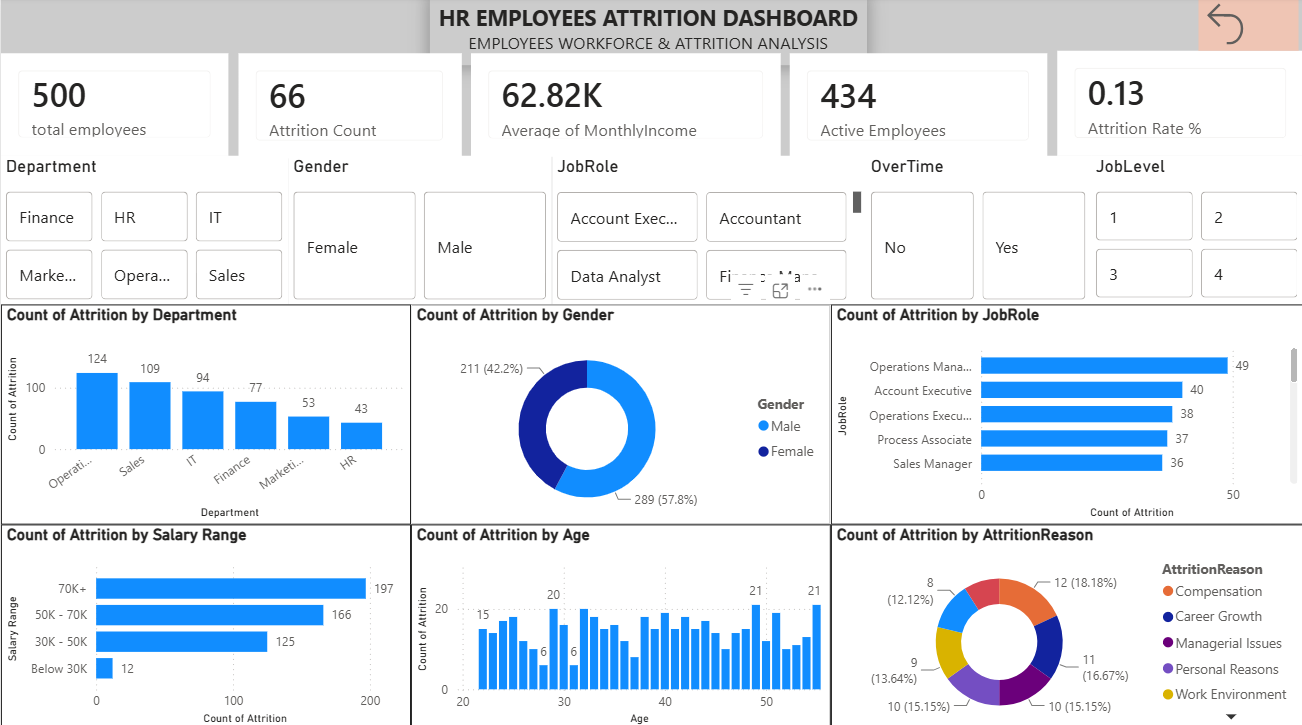

The page's visual inventory and layout, read from the dashboard file:
{"tool":"powerbi","page":{"name":"hr attrition dashboard","canvas":[1280,720],"ordinal":2},"visuals":[{"type":"textbox","box":[342.3,0,542.3,65],"z":0},{"type":"cardVisual","fields":{"Data":["Attendance.total employees"]},"box":[0,55.2,223.3,100.6],"z":1000},{"type":"cardVisual","fields":{"Data":["Attendance.Attrition Count"]},"box":[233.1,55.2,218.9,103.2],"z":2000},{"type":"cardVisual","fields":{"Data":["Attendance.Active Employees"]},"box":[774.2,55.2,252.8,103.1],"z":3000},{"type":"cardVisual","fields":{"Data":["Attendance.Attrition Rate %"]},"box":[1036.8,52.8,242.9,103.1],"z":4000},{"type":"cardVisual","fields":{"Data":["Avg(EmployeeDetails.MonthlyIncome)"]},"box":[461.4,55.2,304.3,101.8],"z":5000},{"type":"advancedSlicerVisual","fields":{"Values":["EmployeeDetails.Department"]},"box":[0,155.5,282.4,146.8],"z":6000},{"type":"advancedSlicerVisual","fields":{"Values":["EmployeeDetails.Gender"]},"box":[282.4,155.5,258.7,146.8],"z":7000},{"type":"advancedSlicerVisual","fields":{"Values":["EmployeeDetails.JobRole"]},"box":[541.1,155.5,308.5,146.8],"z":8000},{"type":"advancedSlicerVisual","fields":{"Values":["EmployeeDetails.OverTime"]},"box":[849.6,155.5,221.4,146.8],"z":9000},{"type":"advancedSlicerVisual","fields":{"Values":["EmployeeDetails.JobLevel"]},"box":[1069.9,155.8,209.8,146],"z":10000},{"type":"clusteredColumnChart","fields":{"Category":["EmployeeDetails.Department"],"Y":["Attendance.Attrition Count"]},"box":[0,301.8,402.5,216],"z":11000},{"type":"donutChart","fields":{"Category":["EmployeeDetails.Gender"],"Y":["Attendance.Attrition Count"]},"box":[402.5,301.8,412.3,216],"z":12000},{"type":"clusteredBarChart","fields":{"Category":["EmployeeDetails.JobRole"],"Y":["Attendance.Attrition Count"]},"box":[814.7,301.8,465,216],"z":13000},{"type":"clusteredColumnChart","fields":{"Y":["Attendance.Attrition Count"],"Category":["EmployeeDetails.Age Group"]},"box":[403,517.5,411.8,202.8],"z":14000},{"type":"barChart","fields":{"Category":["EmployeeDetails.Salary Range"],"Y":["Attendance.Attrition Count"]},"box":[0,517.8,402.5,202.5],"z":15000},{"type":"donutChart","fields":{"Category":["Attrition.AttritionReason"],"Y":["Attendance.Attrition Count"]},"box":[814.7,517.8,465,202.5],"z":16000},{"type":"actionButton","box":[1158,0,117,53],"z":17000}]}

Visuals, with their boxes in screenshot pixels (x1, y1, x2, y2), scaled from the page's 1280x720 canvas onto the 1302x725 screenshot:
textbox: x1=348 y1=0 x2=900 y2=65
cardVisual - Attendance.total employees: x1=0 y1=56 x2=227 y2=157
cardVisual - Attendance.Attrition Count: x1=237 y1=56 x2=460 y2=160
cardVisual - Attendance.Active Employees: x1=788 y1=56 x2=1045 y2=159
cardVisual - Attendance.Attrition Rate %: x1=1055 y1=53 x2=1301 y2=157
cardVisual - Avg(EmployeeDetails.MonthlyIncome): x1=469 y1=56 x2=779 y2=158
advancedSlicerVisual - EmployeeDetails.Department: x1=0 y1=157 x2=287 y2=304
advancedSlicerVisual - EmployeeDetails.Gender: x1=287 y1=157 x2=550 y2=304
advancedSlicerVisual - EmployeeDetails.JobRole: x1=550 y1=157 x2=864 y2=304
advancedSlicerVisual - EmployeeDetails.OverTime: x1=864 y1=157 x2=1089 y2=304
advancedSlicerVisual - EmployeeDetails.JobLevel: x1=1088 y1=157 x2=1301 y2=304
clusteredColumnChart - EmployeeDetails.Department x Attendance.Attrition Count: x1=0 y1=304 x2=409 y2=521
donutChart - EmployeeDetails.Gender x Attendance.Attrition Count: x1=409 y1=304 x2=829 y2=521
clusteredBarChart - EmployeeDetails.JobRole x Attendance.Attrition Count: x1=829 y1=304 x2=1301 y2=521
clusteredColumnChart - Attendance.Attrition Count x EmployeeDetails.Age Group: x1=410 y1=521 x2=829 y2=724
barChart - EmployeeDetails.Salary Range x Attendance.Attrition Count: x1=0 y1=521 x2=409 y2=724
donutChart - Attrition.AttritionReason x Attendance.Attrition Count: x1=829 y1=521 x2=1301 y2=724
actionButton: x1=1178 y1=0 x2=1297 y2=53
